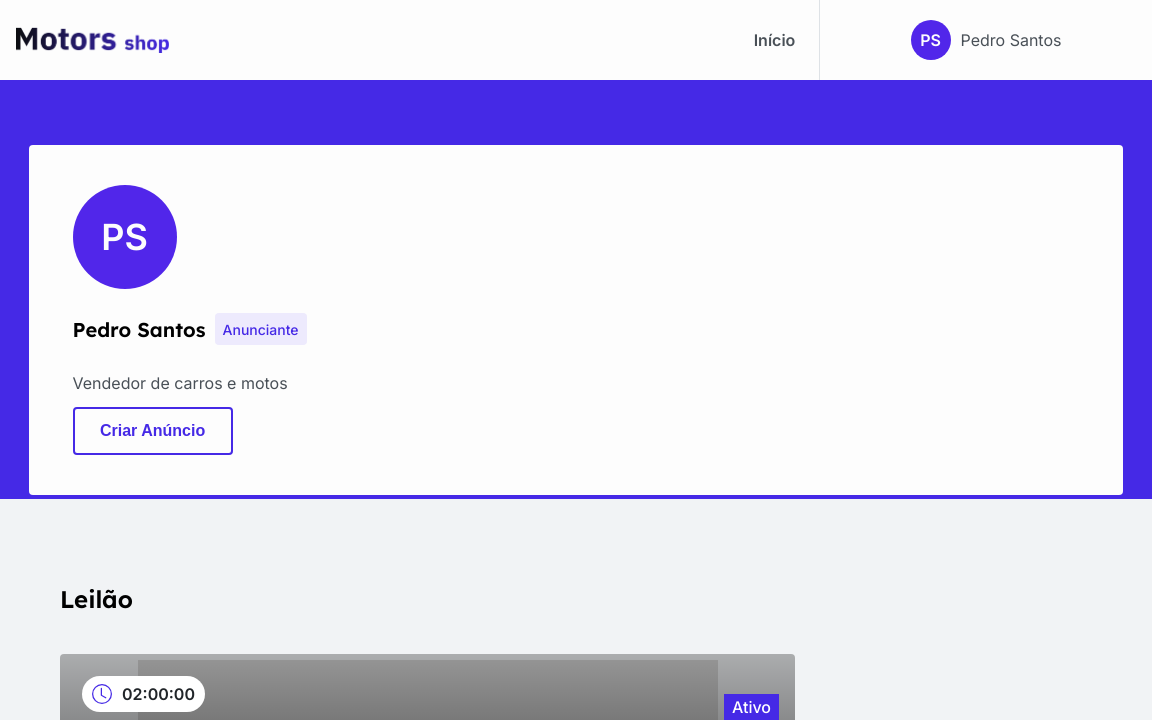
Test case: Profile Page Tests › should be able to open the create ad modal
The image size is (1152, 720).
Click the button "Criar Anúncio" at (153, 431), box top-left (73, 407), bottom-right (233, 455)
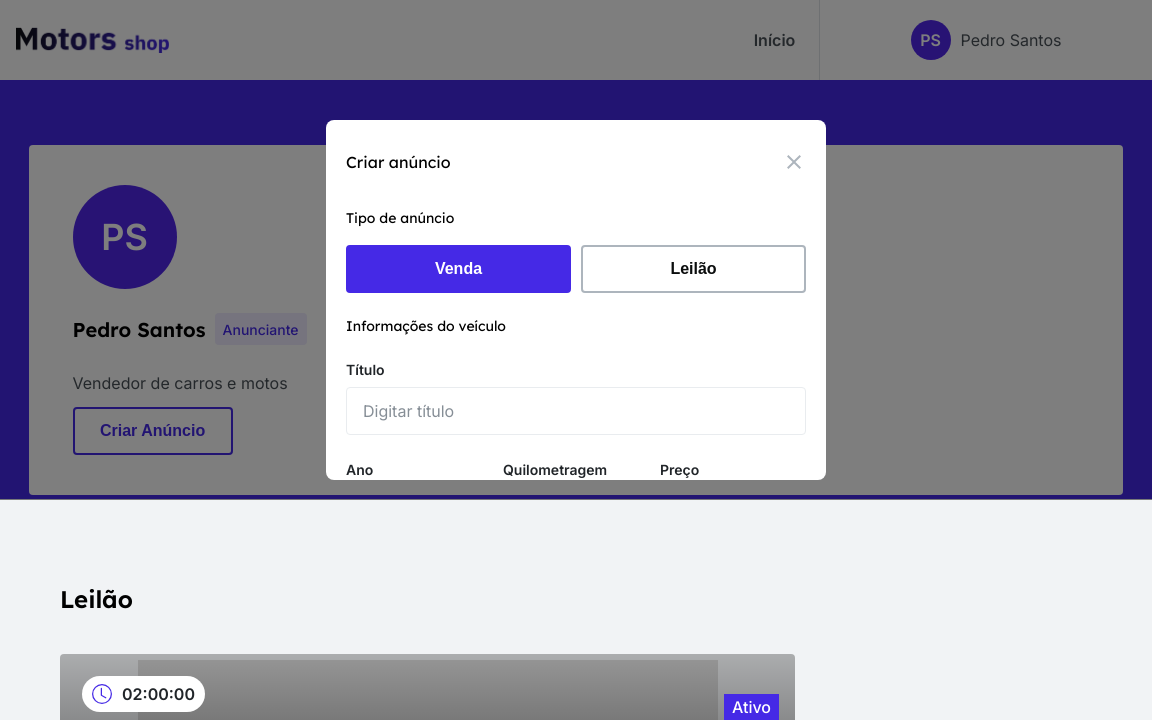
Result: the heading "Tipo de anúncio" is shown at top-left (346, 209), bottom-right (454, 227)
